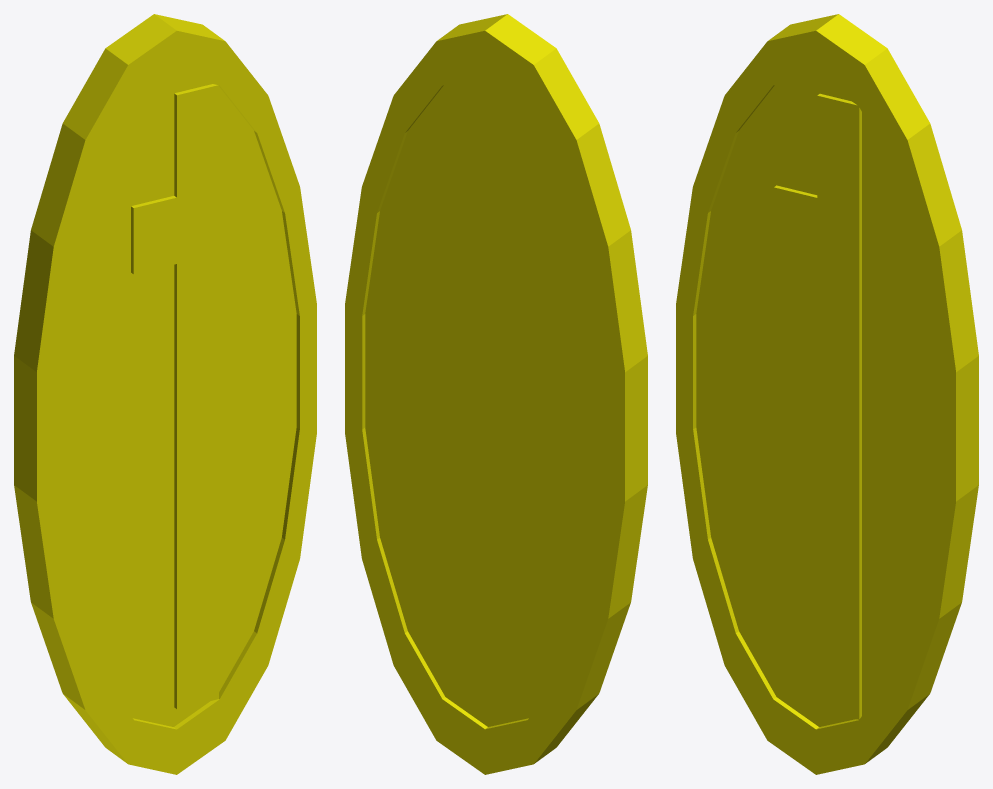
The model's file is penny_(coin)_1_v000.glb.
3 views of the same model, side by side, from view 1: azimuth 30°, elevation 25°; view 2: azimuth 150°, elevation 25°; view 3: azimuth 330°, elevation 25° (orthographic).
Visible parts, largest first — view 1: Coin_0; view 2: Coin_0; view 3: Coin_0.
Boxes of the visible parts, <box> form: Coin_0: <box>14,14,316,774</box>; Coin_0: <box>345,14,647,774</box>; Coin_0: <box>676,14,978,774</box>.
Size of the model in its own units: 0.197 by 0.5 by 0.0278.
